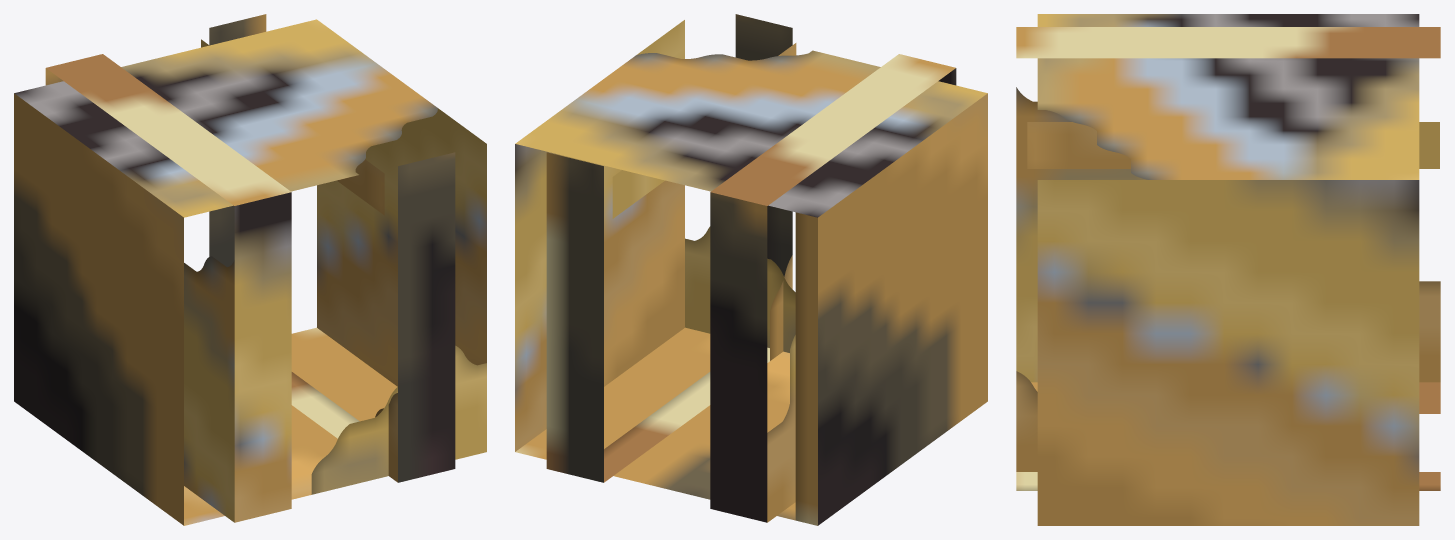
The model's file is noxus_h.obj.
3 views of the same model, side by side, from view 1: azimuth 30°, elevation 25°; view 2: azimuth 150°, elevation 25°; view 3: azimuth 270°, elevation 25° (orthographic). The views are drawn at different scales.
Visible parts, largest first — view 1: cube; view 2: cube; view 3: cube.
Boxes of the visible parts, x1=… form: cube: x1=14, y1=14, x2=486, y2=525; cube: x1=515, y1=14, x2=987, y2=525; cube: x1=1016, y1=14, x2=1440, y2=525.
Size of the model in its own units: 0.5784 by 0.5783 by 0.625.
